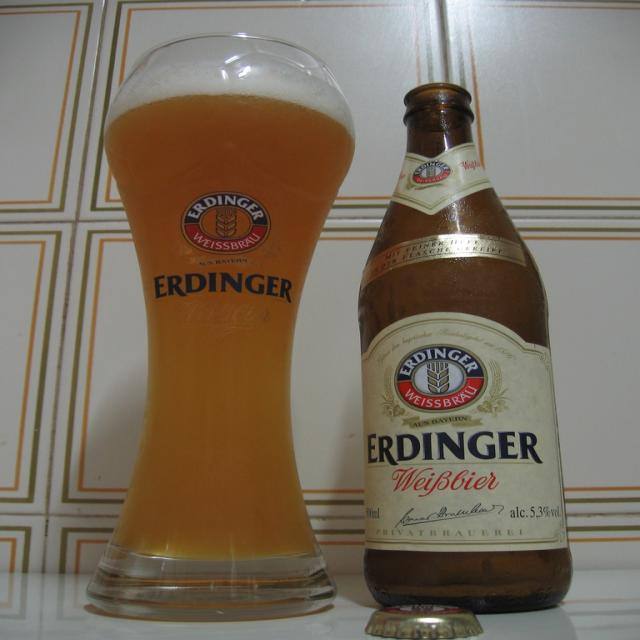erdinger: (360, 329, 550, 474), (144, 188, 305, 306), (404, 160, 459, 195)
